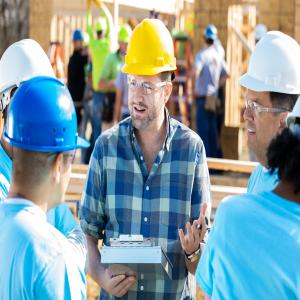blue: (5, 78, 81, 210), (203, 25, 218, 50), (72, 30, 86, 51)
white: (243, 32, 300, 168), (3, 38, 59, 138), (253, 24, 269, 48)
yellow: (125, 18, 178, 134), (118, 23, 133, 54), (95, 17, 108, 42)
